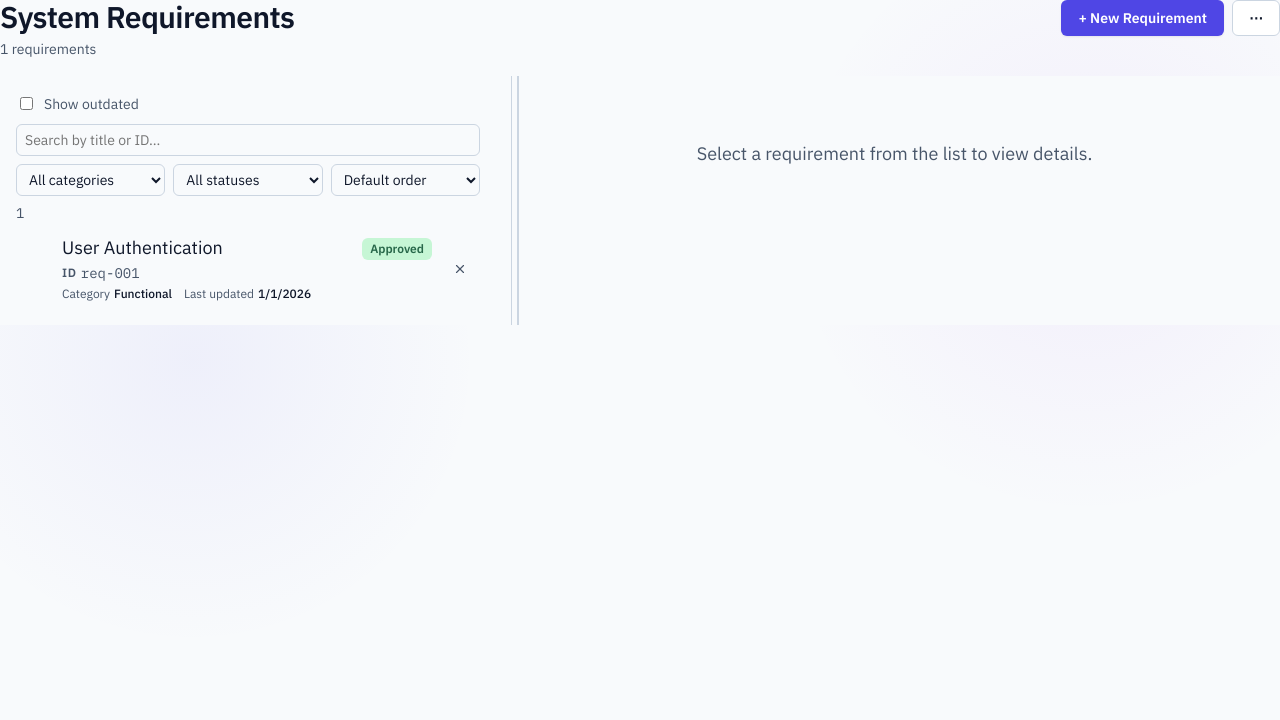
it: RequirementEditors — server validation errors are visible (#339/#340) › keeps the create form (and the typed title) open after a refused create
The width and height of the screenshot is (1280, 720).
Click the button with test id "create-req-btn". click: (1143, 18)
box: x1=1061 y1=0 x2=1224 y2=36
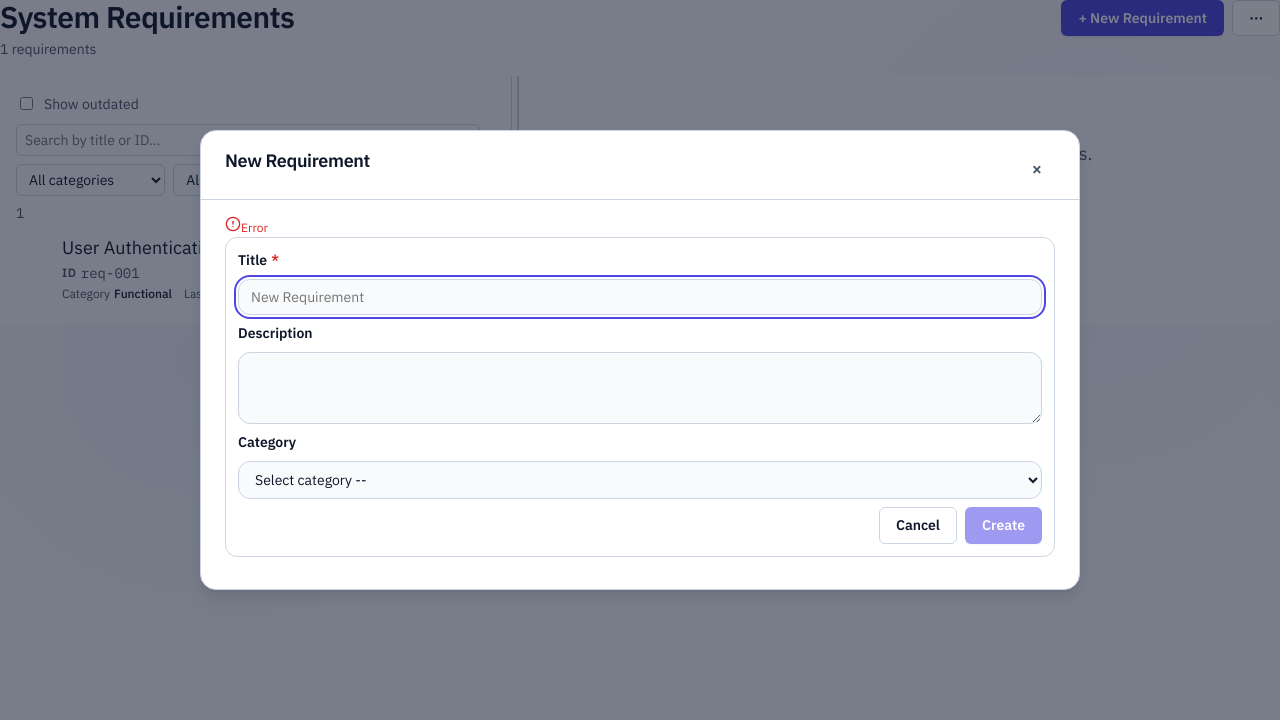
Expected: the form with test id "create-req-form" is shown, x1=225 y1=237 x2=1055 y2=557
Type "<b>x</b>" into the field with test id "req-new-title-input". click: (640, 297)
box: x1=238 y1=279 x2=1042 y2=315
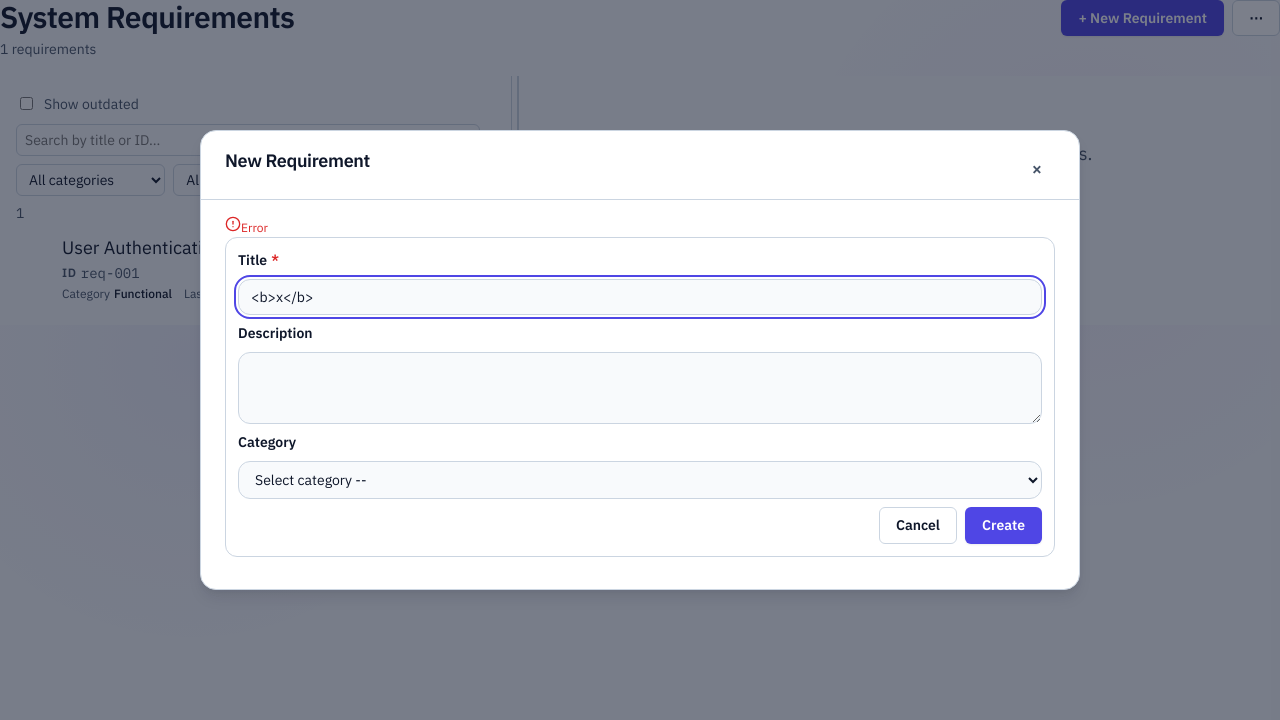
Click the button with test id "req-new-save-btn". click: (1004, 526)
box: x1=965 y1=507 x2=1042 y2=544
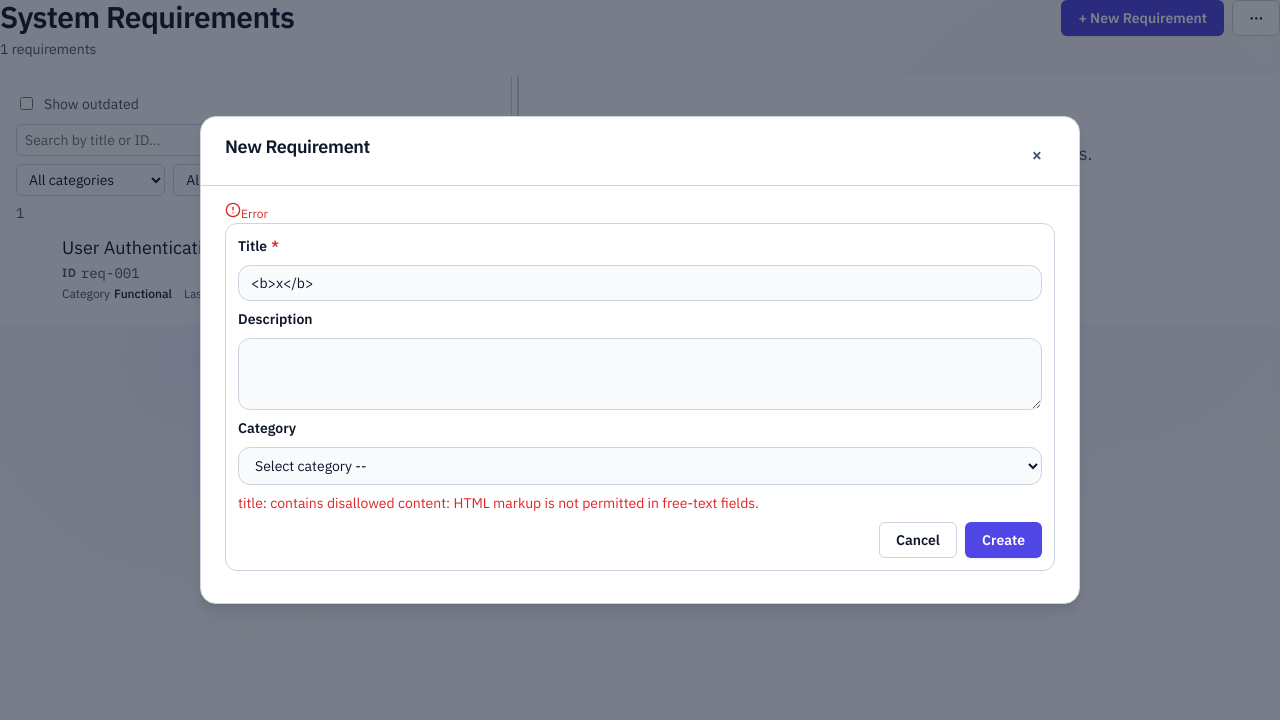
Expected: the message with test id "req-create-error" is shown, x1=238 y1=494 x2=759 y2=512
